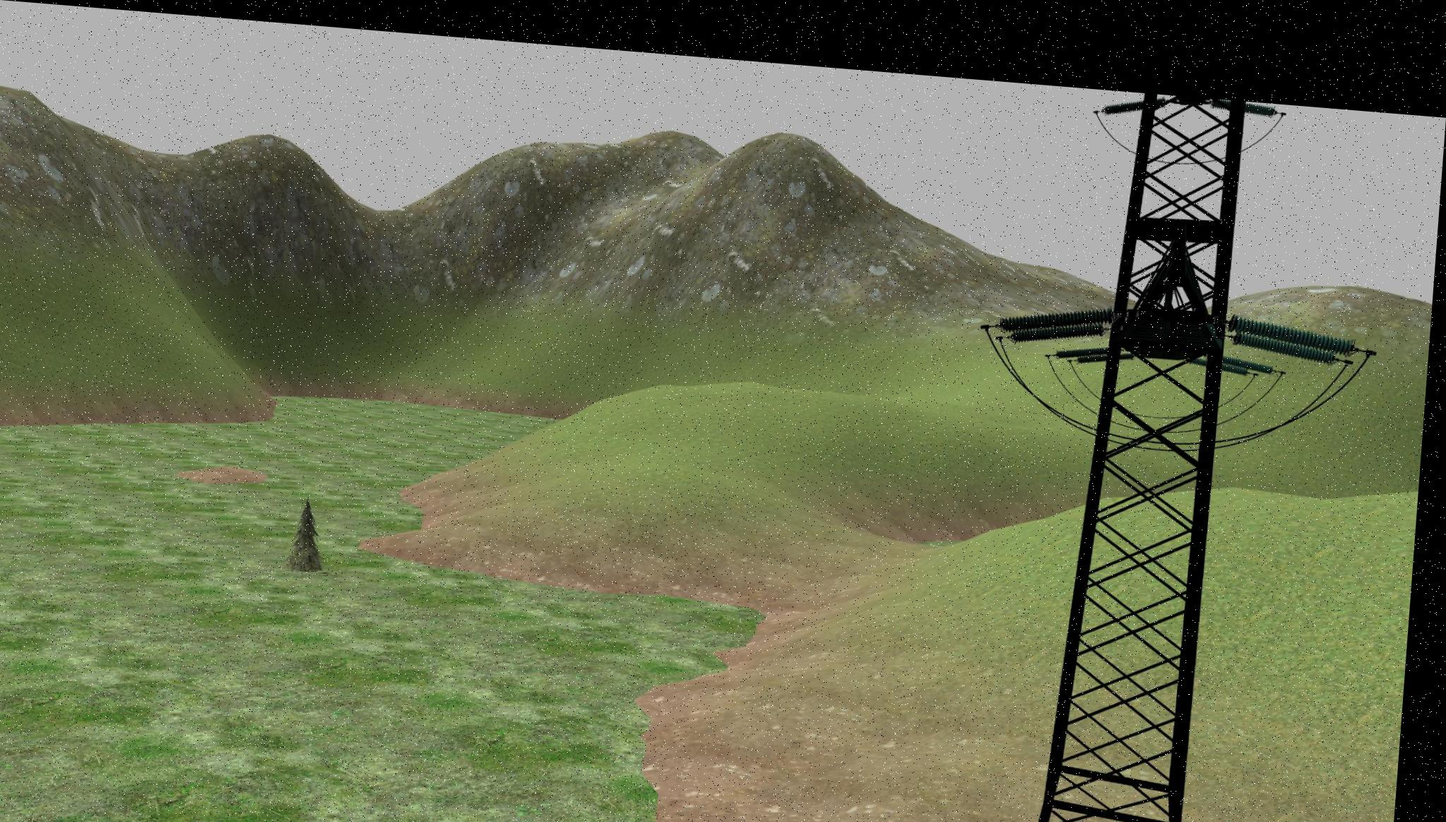tower: (1009, 87, 1262, 822)
